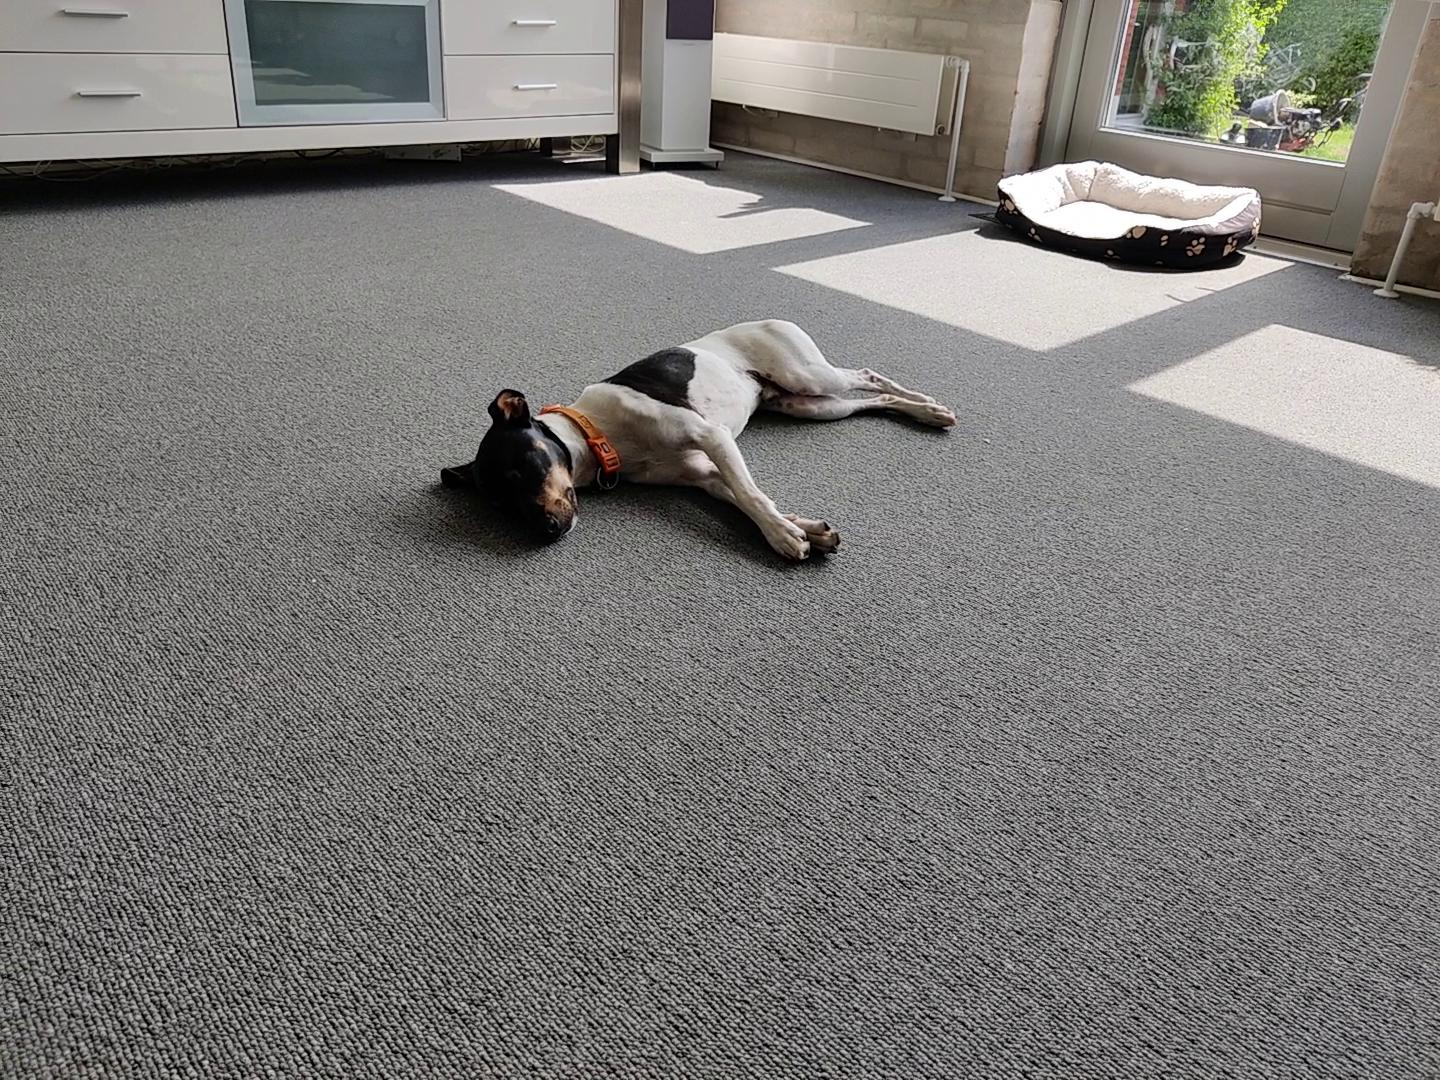Dog: (423, 312, 989, 569)
